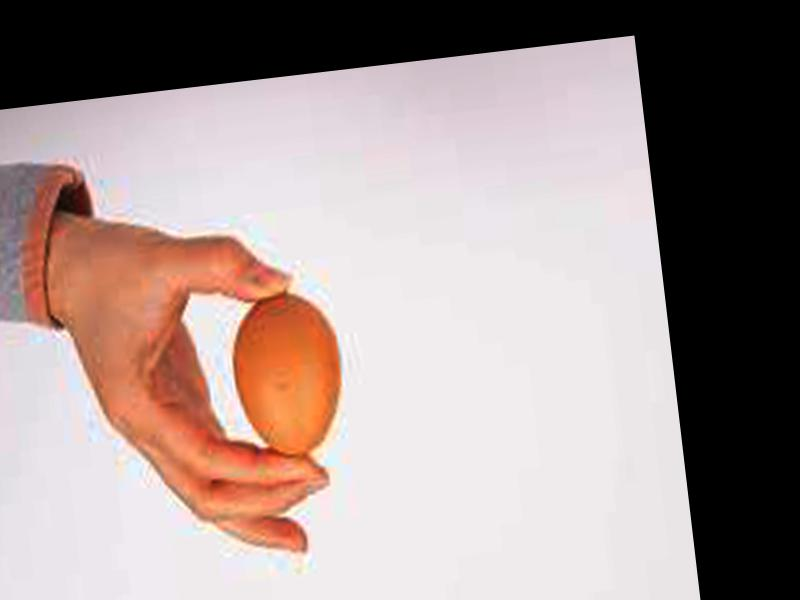Eggs: (229, 292, 350, 465)
